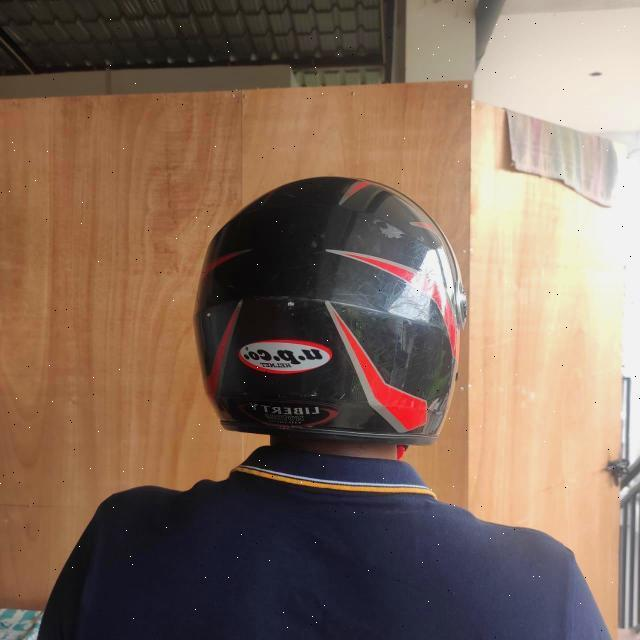helmet: (194, 172, 470, 460)
